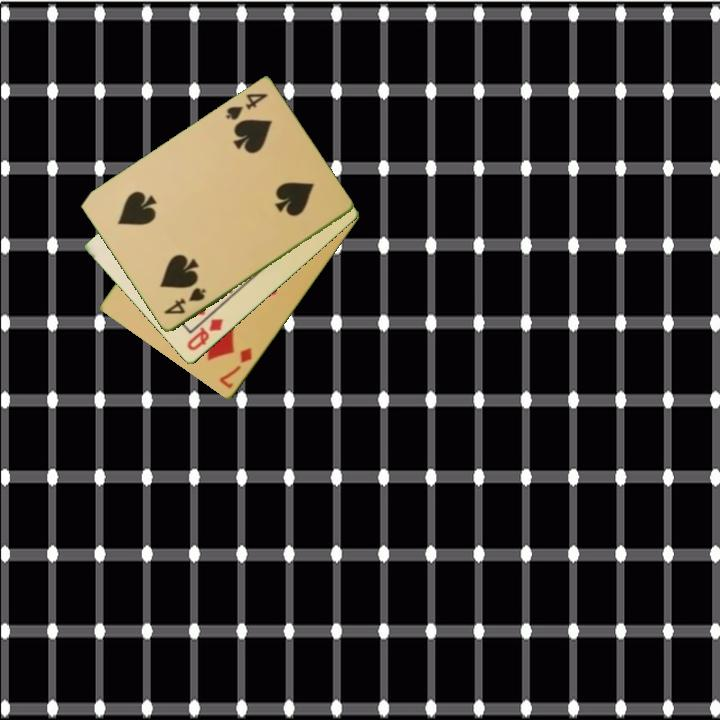4s: (161, 284, 209, 318), (222, 90, 271, 123)
7d: (216, 344, 255, 392)
Qd: (183, 315, 226, 354)
